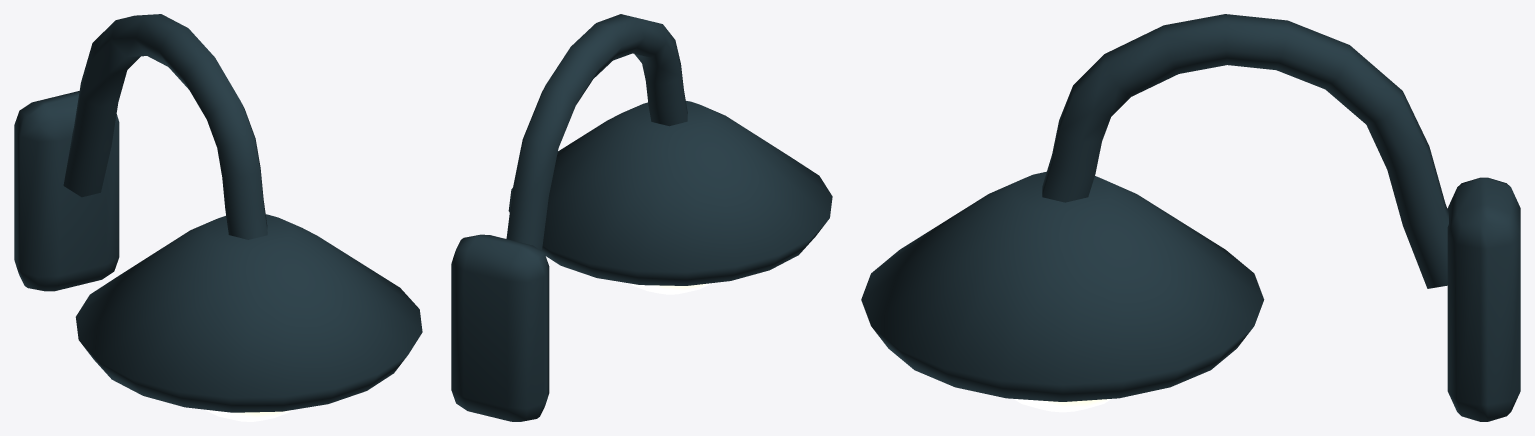
The model's file is WallLamp.fbx.
3 views of the same model, side by side, from view 1: azimuth 30°, elevation 25°; view 2: azimuth 150°, elevation 25°; view 3: azimuth 270°, elevation 25° (orthographic). The views are drawn at different scales.
Parts seen in each view (by area): view 1: WallLamp_Metal, WallLamp_Glow; view 2: WallLamp_Metal, WallLamp_Glow; view 3: WallLamp_Metal, WallLamp_Glow.
Part boxes in pixels (left/top/right/bottom): WallLamp_Metal: left=14, top=14, right=422, bottom=412; WallLamp_Glow: left=205, top=409, right=291, bottom=421; WallLamp_Metal: left=451, top=14, right=832, bottom=421; WallLamp_Glow: left=631, top=283, right=711, bottom=294; WallLamp_Metal: left=861, top=14, right=1520, bottom=421; WallLamp_Glow: left=1014, top=399, right=1111, bottom=412.
Size of the model in its own units: 0.44 by 0.4676 by 0.72.
